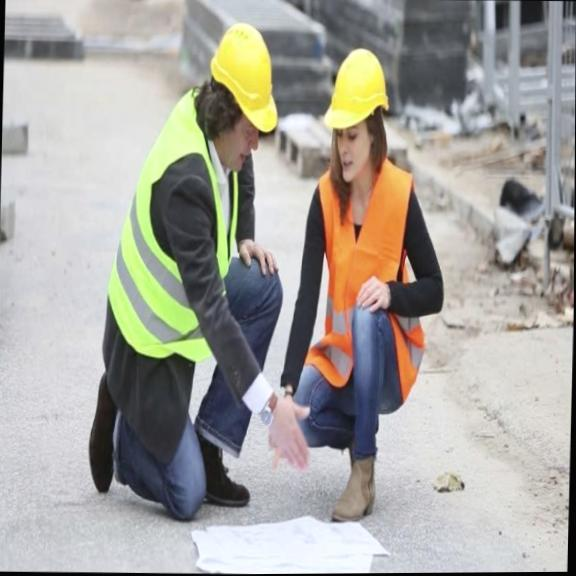safety_vest: (102, 142, 247, 362), (305, 155, 422, 397)
